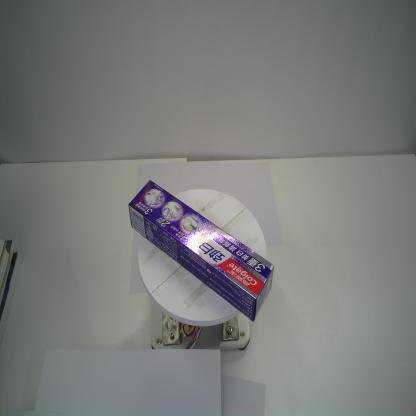Personal Hygiene: (128, 178, 275, 325)
